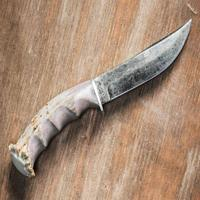knife: (7, 14, 197, 182)
